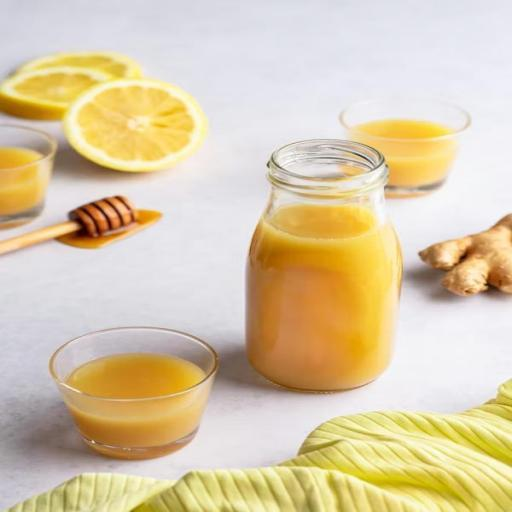bottle: (236, 127, 416, 404)
